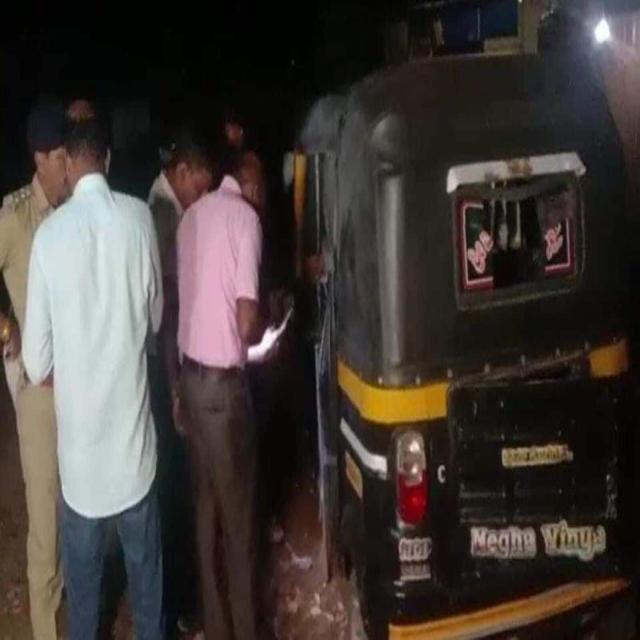accident: (294, 42, 630, 637)
